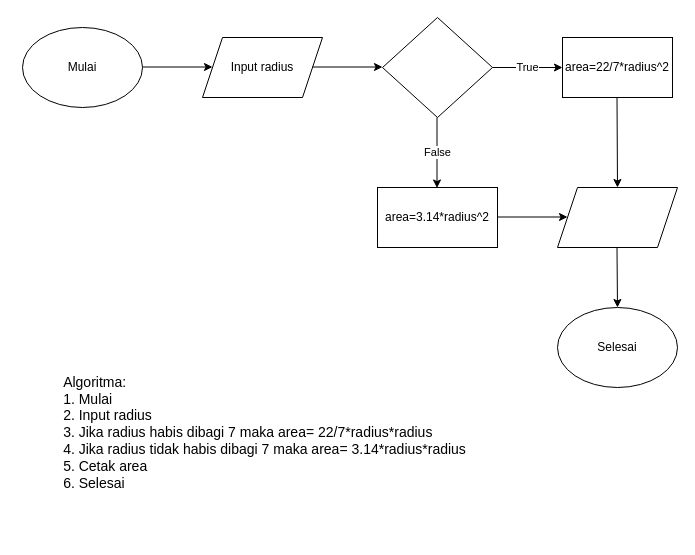
Some shapes in this 695 by 555 pixel diagram are drawn without their labels. Each missing label, with the centre of its shape:
"Cetak area" goes at (617,217).
"if radius%7==0" goes at (437,67).
